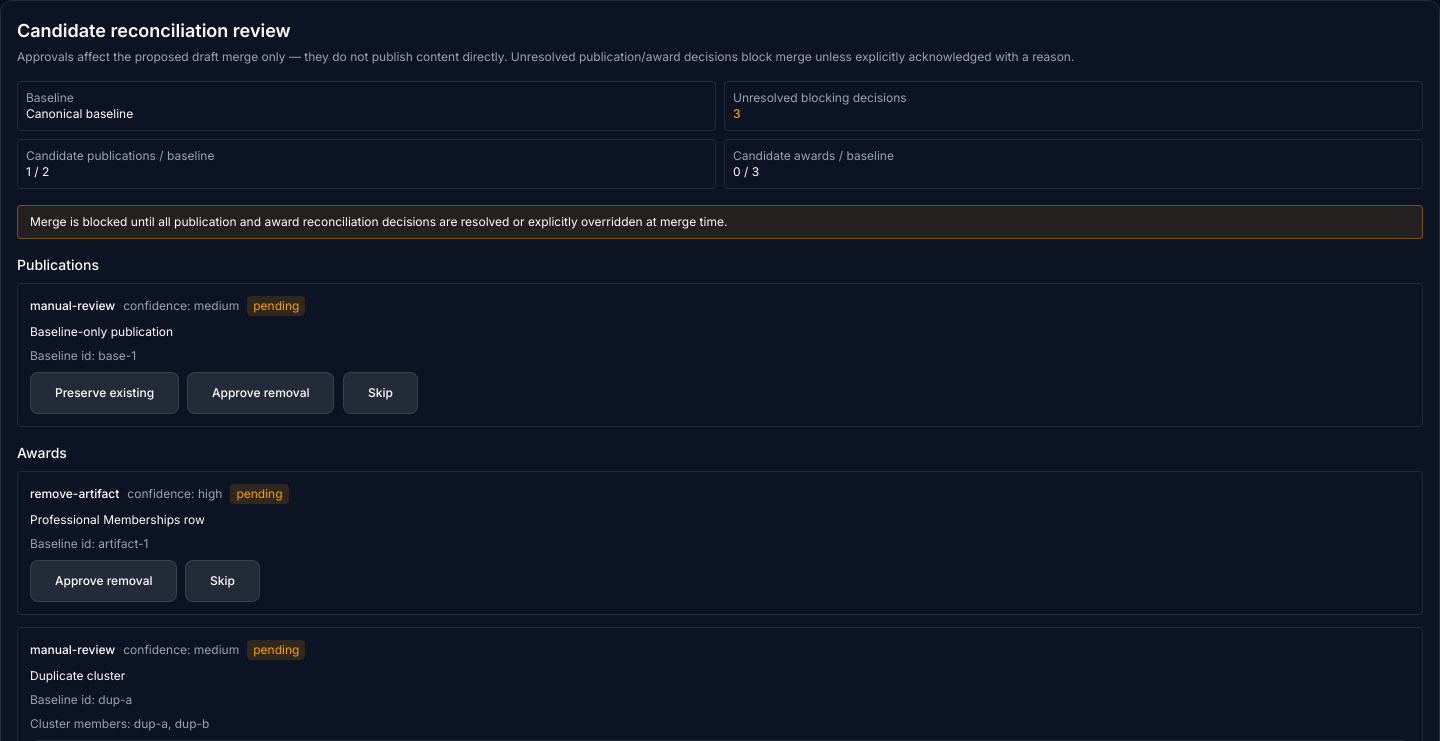
it: ImportCandidateReconcilePanel › shows unsaved badge for local draft approval before save
Expected: the text "Professional Memberships row" shows "pending", [236, 486, 282, 501]
Step 1. Click the button "Approve removal" below "artifact-1" → (104, 581), box [30, 560, 178, 602]
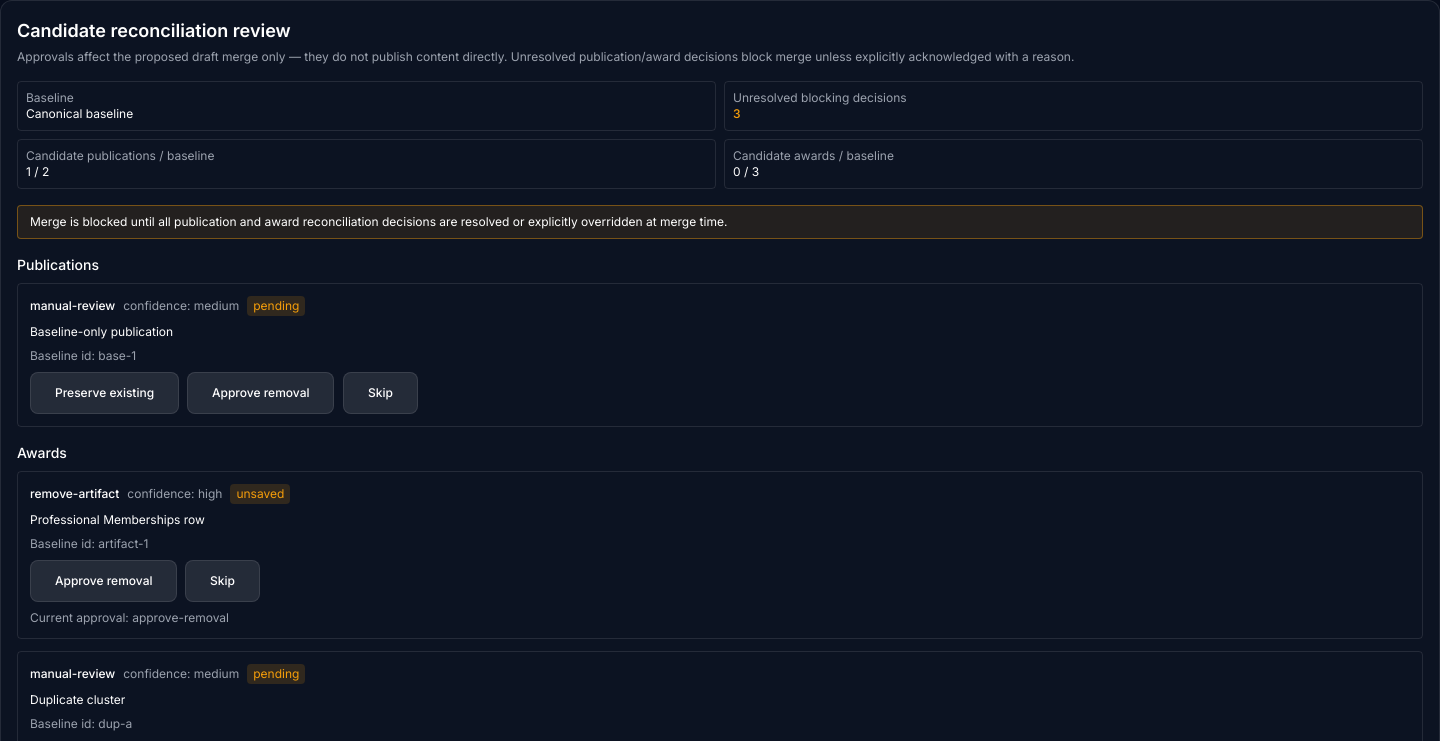
Expected: the text "Professional Memberships row" shows "unsaved", [236, 486, 284, 501]
Expected: the text "unsaved" is shown, [230, 484, 290, 504]
